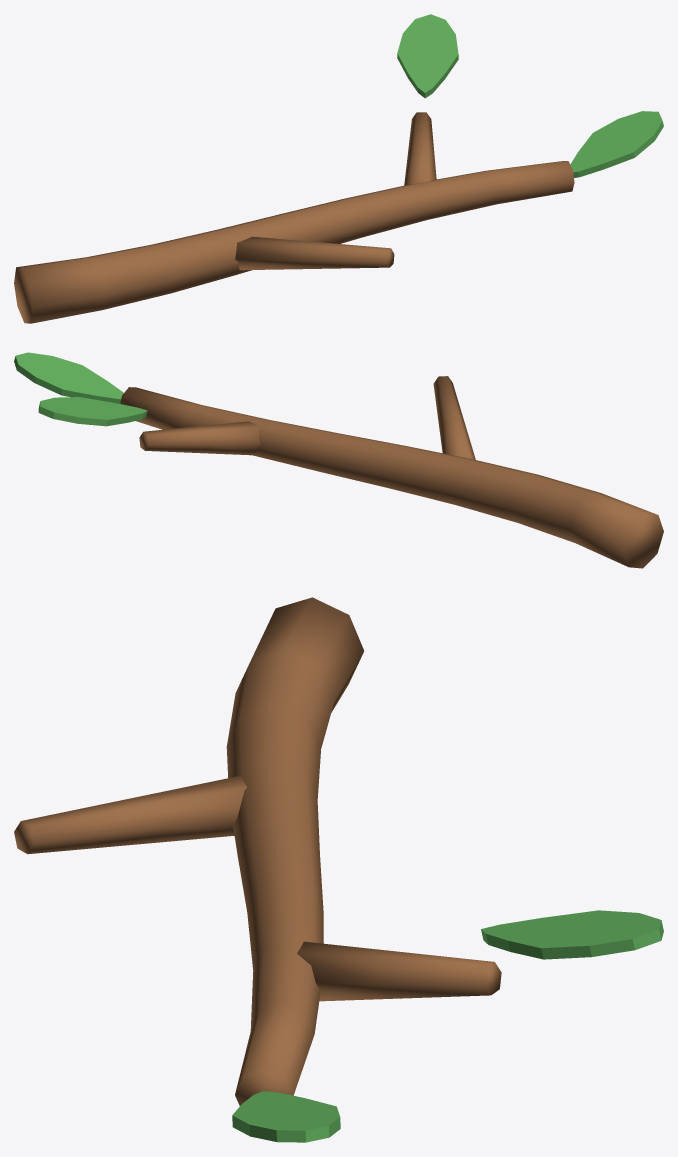
The model's file is mat-branch.glb.
3 views of the same model, one above another, from view 1: azimuth 30°, elevation 25°; view 2: azimuth 150°, elevation 25°; view 3: azimuth 270°, elevation 25° (orthographic). The views are drawn at different scales.
Parts seen in each view (by area): view 1: mat; view 2: mat; view 3: mat.
Part boxes in pixels (bbox=[...]): mat: bbox=[14, 14, 663, 323]; mat: bbox=[14, 352, 663, 568]; mat: bbox=[14, 597, 663, 1142].
Size of the model in its own units: 0.5307 by 0.0891 by 0.2682.
